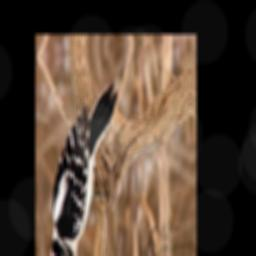Woodpecker: (44, 76, 125, 256)
